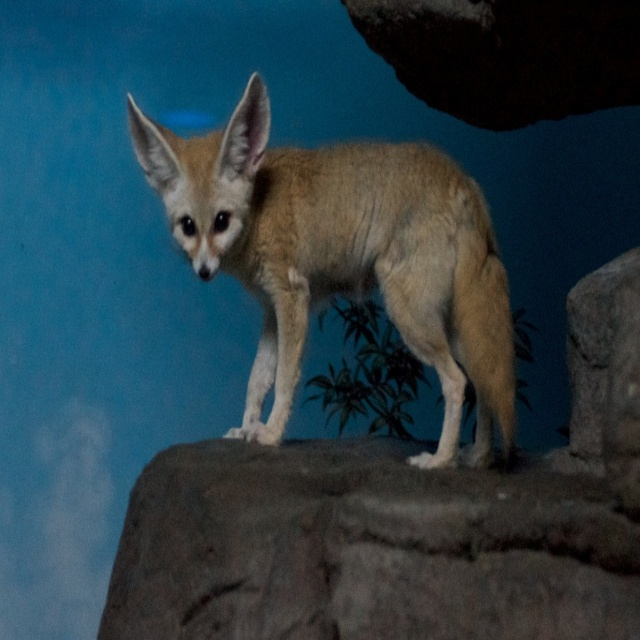Fox: (126, 73, 518, 471)
